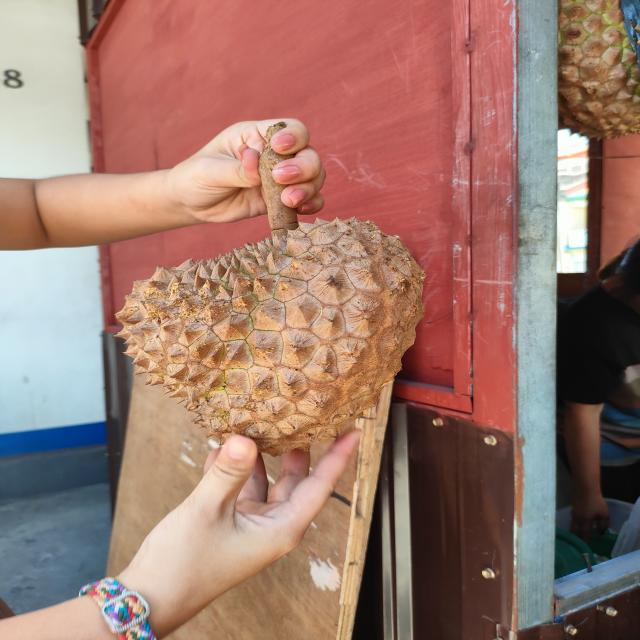mature: (113, 218, 426, 457)
